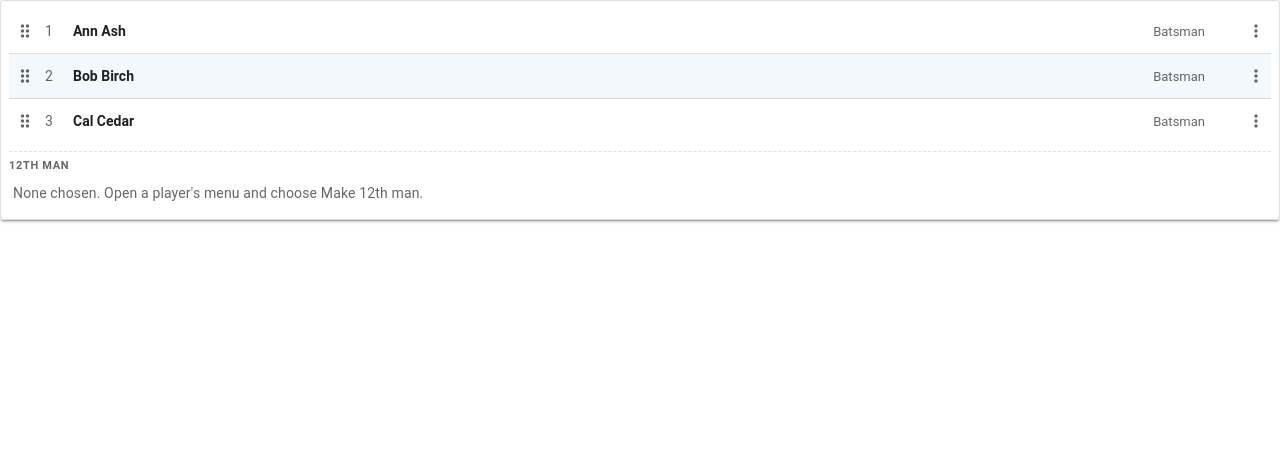
Test: TeamSelectionList › the name menu › offers Make captain, Wicketkeeper, Make 12th man, Role, Move up/down and Remove for a numbered player
The width and height of the screenshot is (1280, 461).
Click the button "Bob Birch".
click(104, 76)  # box top-left (69, 58), bottom-right (138, 94)
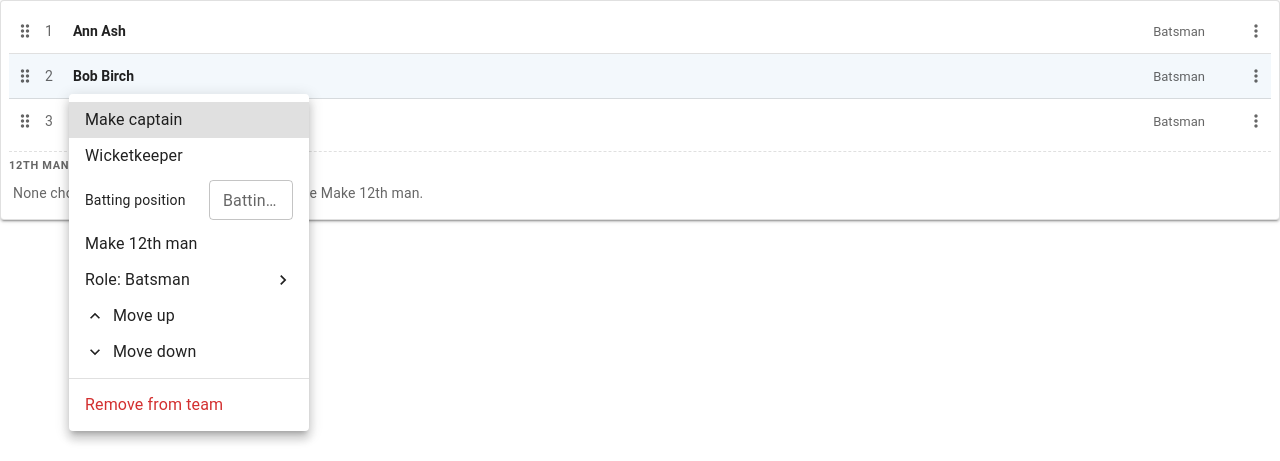
Check: the menu item "Make captain" is shown, box top-left (69, 102), bottom-right (309, 138)
Check: the menu item "Wicketkeeper" is shown, box top-left (85, 146), bottom-right (183, 165)
Check: the menu item "Make 12th man" is shown, box top-left (85, 234), bottom-right (198, 253)
